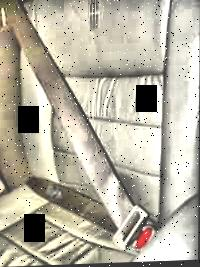seatbelt: (19, 8, 168, 250)
